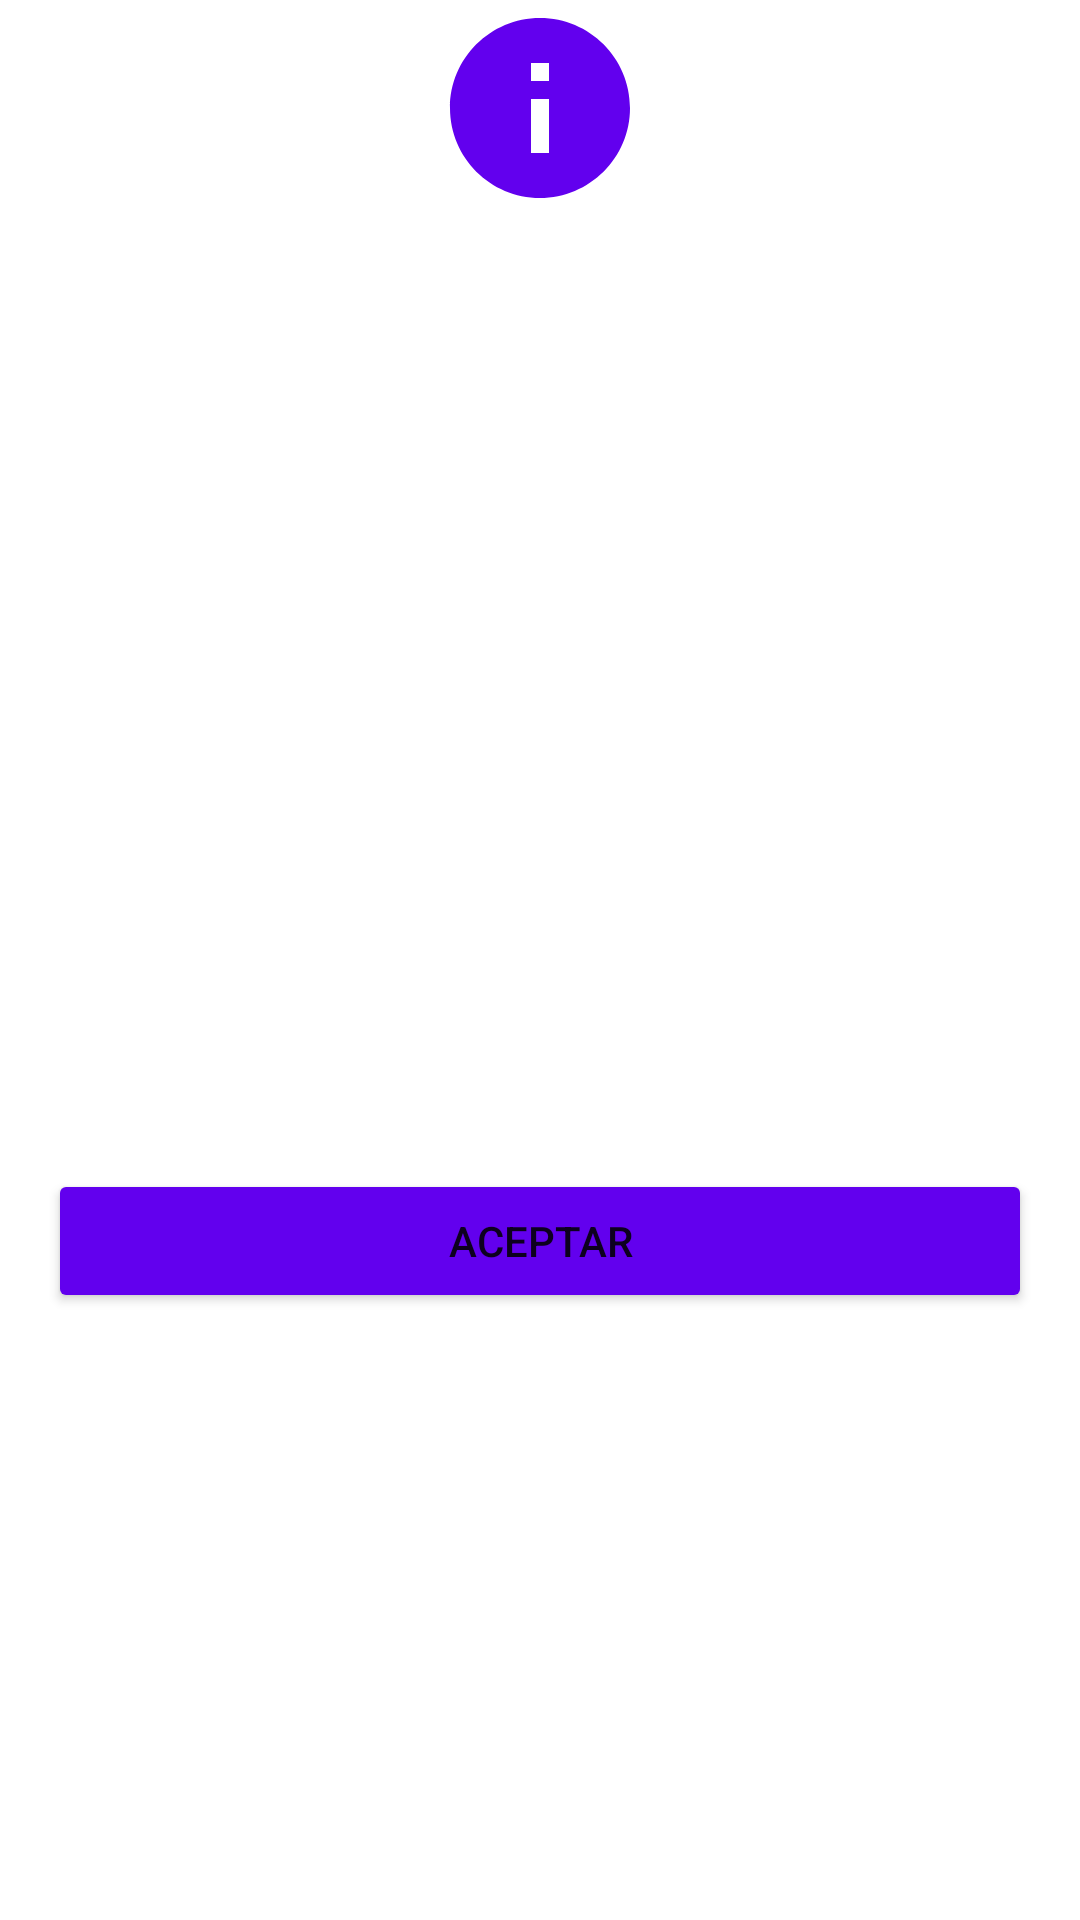

Screen size 1080 x 1920. Icon name, then its box in pixels as (x1, y1, x2, y2):
info: (449, 18, 630, 198)
